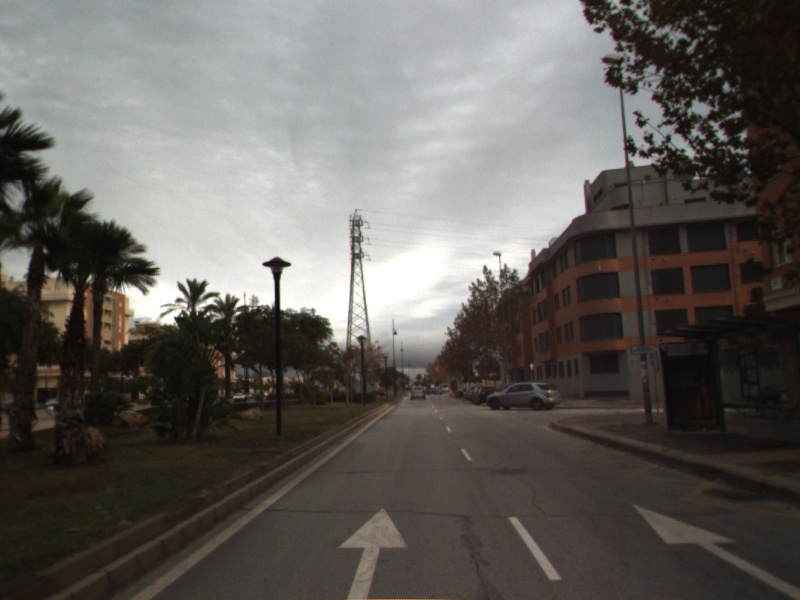STRAIGHT: (630, 502, 799, 600), (336, 506, 411, 600)
